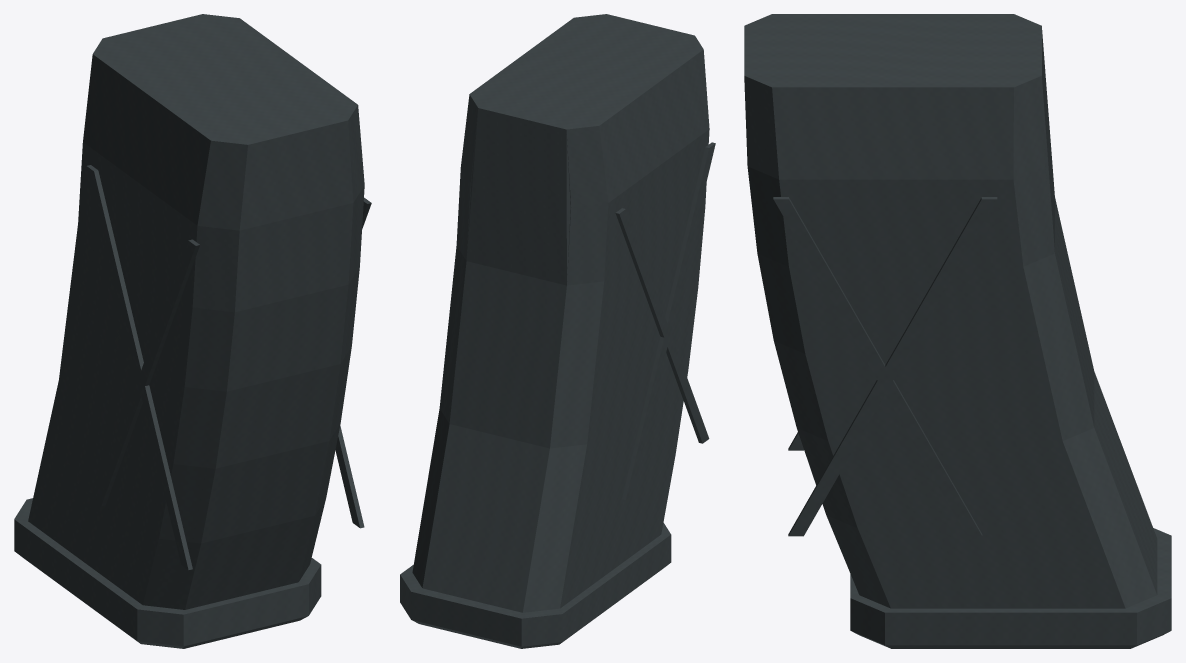
File: svd_10.glb
3 renders of one model, left to right at view 1: azimuth 30°, elevation 25°; view 2: azimuth 150°, elevation 25°; view 3: azimuth 270°, elevation 25°, orthographic. The views are drawn at different scales.
Parts seen in each view (by area): view 1: svd_10_individual_shell, svd_10_individual_shell.001; view 2: svd_10_individual_shell.001, svd_10_individual_shell; view 3: svd_10_individual_shell, svd_10_individual_shell.001.
Boxes of the visible parts, x1=… form: svd_10_individual_shell: x1=14, y1=14, x2=371, y2=648; svd_10_individual_shell.001: x1=28, y1=225, x2=191, y2=603; svd_10_individual_shell.001: x1=412, y1=108, x2=704, y2=612; svd_10_individual_shell: x1=400, y1=14, x2=715, y2=648; svd_10_individual_shell: x1=744, y1=14, x2=1171, y2=648; svd_10_individual_shell.001: x1=789, y1=30, x2=1157, y2=608.
Size of the model in its own units: 0.0847 by 0.239 by 0.1666.
Materials: 1 (1 with a texture image).
